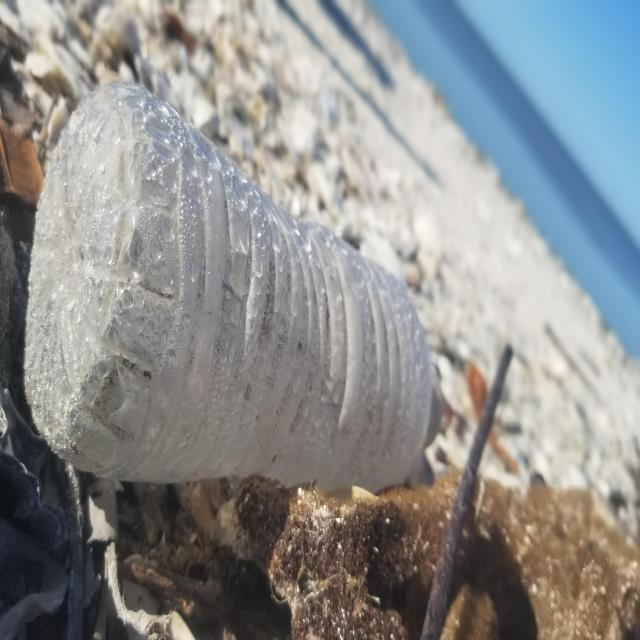litter: (21, 80, 450, 492)
